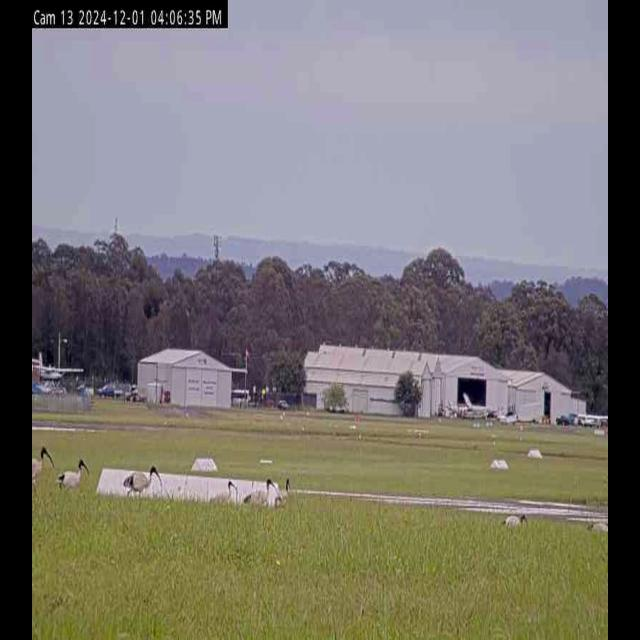Birds-Ibis: (122, 461, 164, 507), (56, 453, 92, 493), (31, 442, 56, 498), (242, 475, 278, 510), (209, 478, 238, 511), (502, 508, 529, 534), (276, 474, 293, 509), (586, 514, 608, 536)
